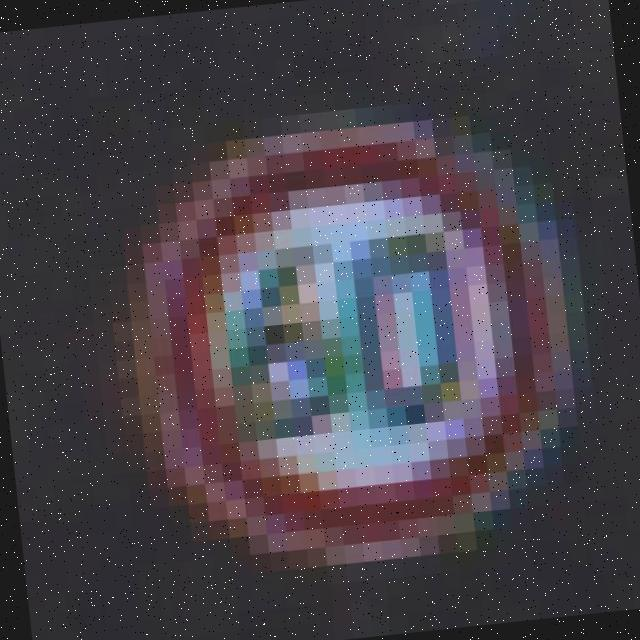Ograniczenie predkosci do 60: (136, 116, 560, 560)
